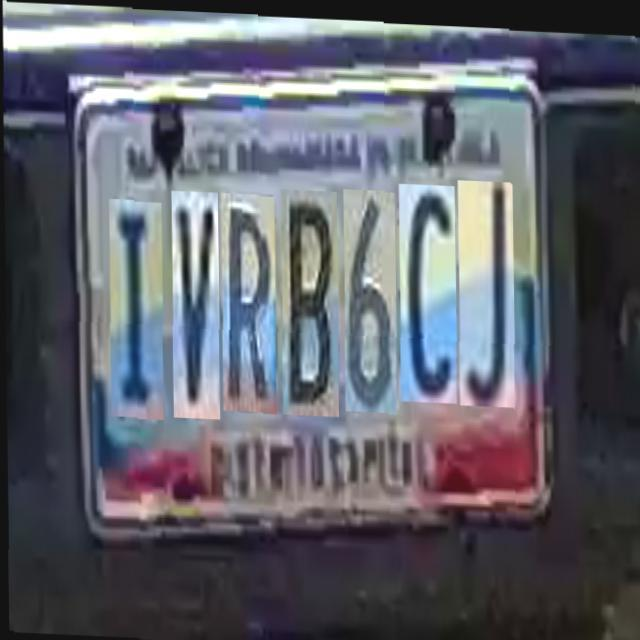6: (342, 183, 396, 407)
B: (280, 184, 338, 410)
C: (398, 176, 456, 395)
I: (108, 198, 162, 417)
J: (456, 172, 514, 398)
R: (220, 190, 276, 408)
V: (170, 187, 219, 416)
